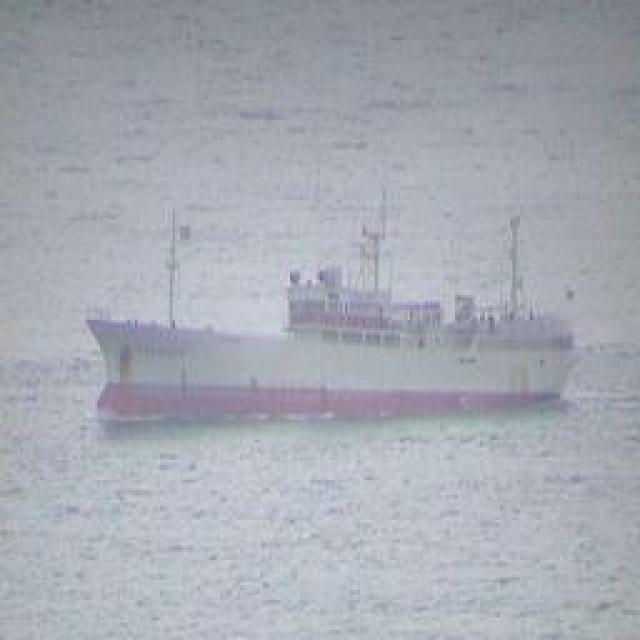CIV_Ship: (96, 306, 582, 414)
